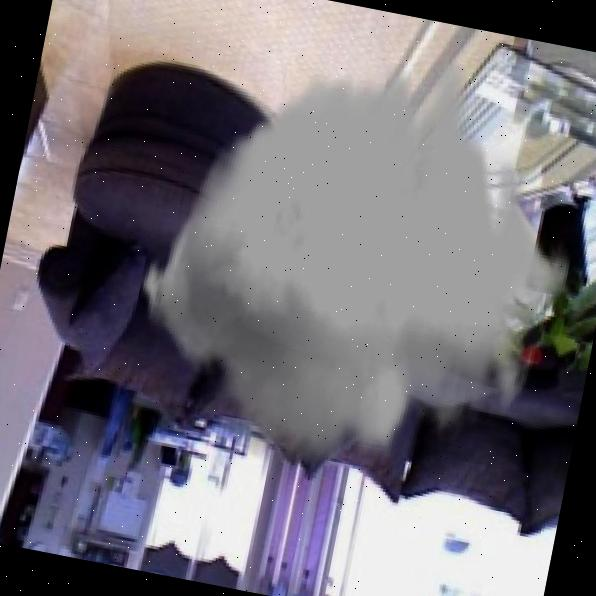smoke: (112, 13, 596, 510)
